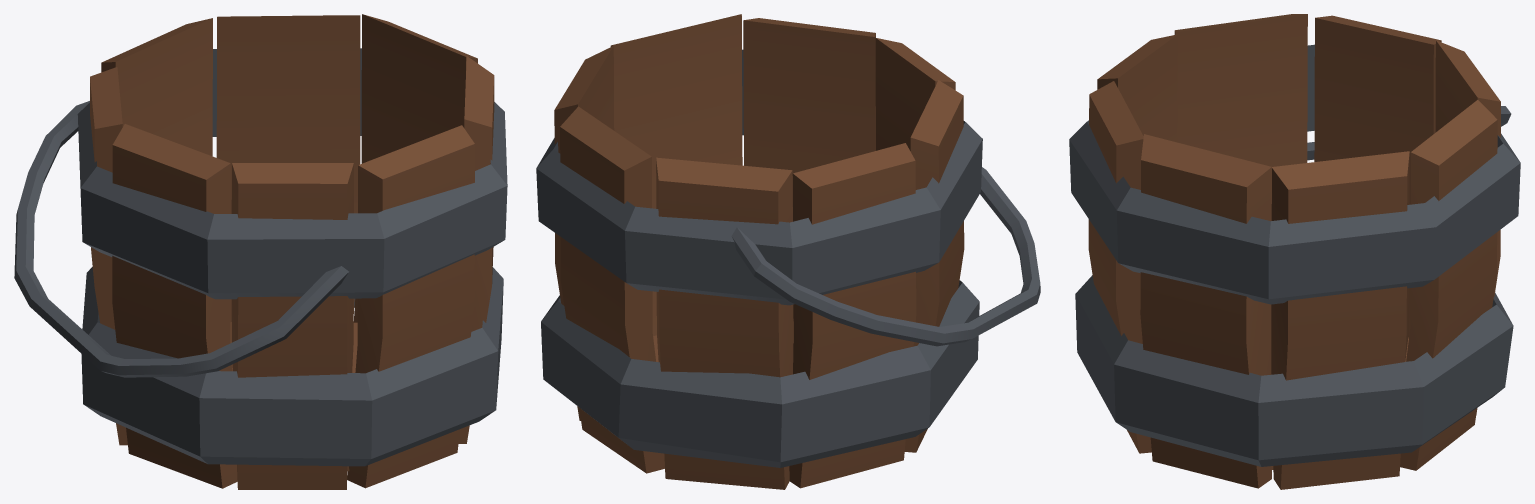
File: Bucket_4.fbx
3 renders of one model, left to right at view 1: azimuth 30°, elevation 25°; view 2: azimuth 150°, elevation 25°; view 3: azimuth 270°, elevation 25°, orthographic. The views are drawn at different scales.
Parts seen in each view (by area): view 1: Bucket_4; view 2: Bucket_4; view 3: Bucket_4.
Part boxes in pixels (x1,y1,x2,y2): Bucket_4: (14,14,507,489); Bucket_4: (536,14,1040,489); Bucket_4: (1069,14,1520,489).
Size of the model in its own units: 53.94 by 38.78 by 48.84.
